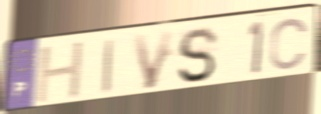1: (246, 18, 265, 76)
C: (267, 16, 311, 72)
H: (34, 38, 87, 107)
I: (100, 37, 116, 96)
S: (175, 25, 220, 85)
V: (131, 28, 177, 92)
